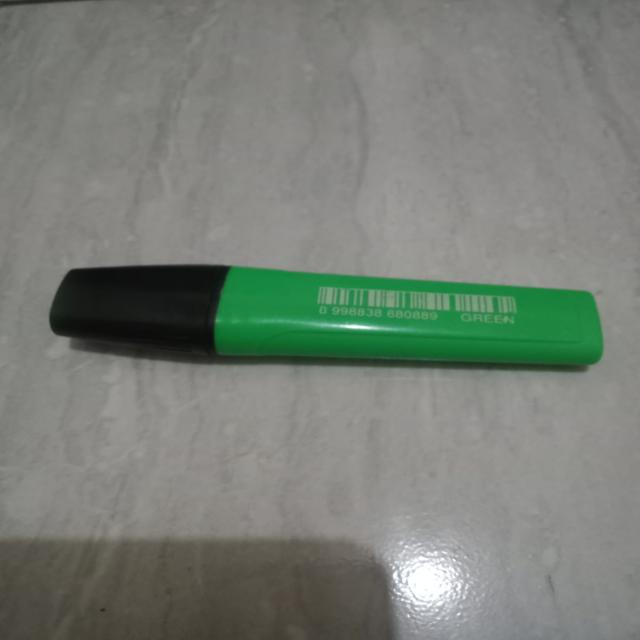highlighter: (35, 246, 616, 390)
